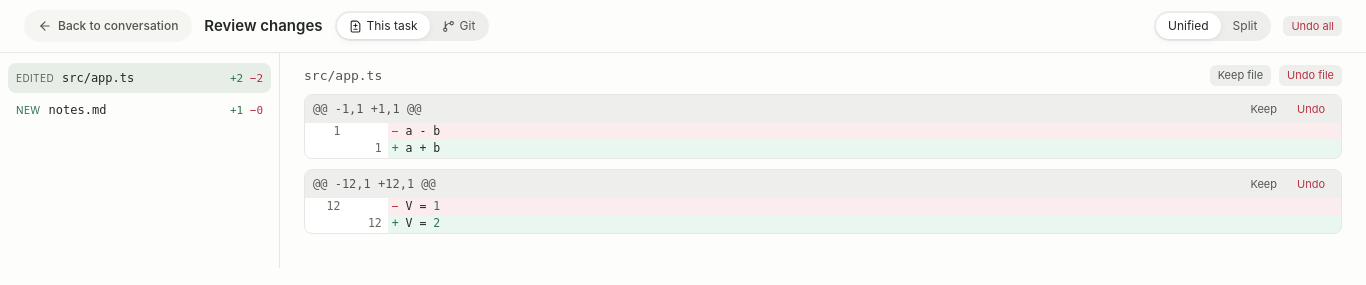
ReviewView › keeps a hunk without touching the file and switches layout
Expected: the text "a + b" is shown, [406, 141, 440, 155]
Click the button with aria-label "Keep change @@ -1,1 +1,1 @@" at (1264, 109), box [1242, 98, 1285, 119]
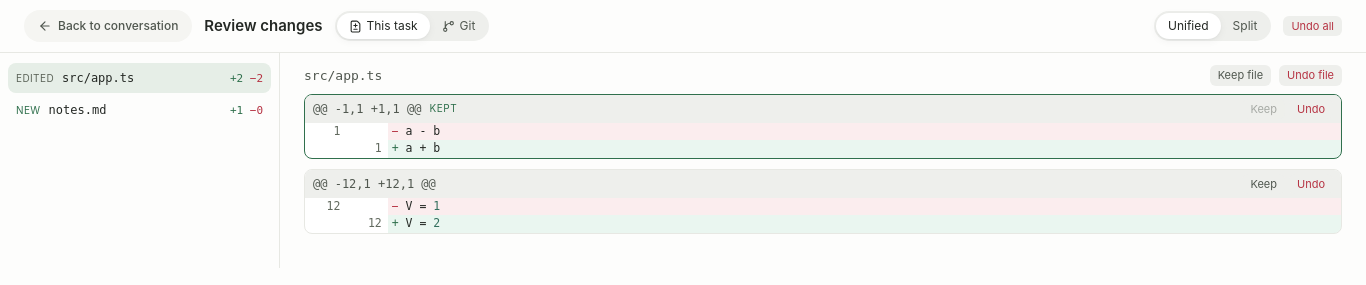
Expected: the text "Kept" is shown, [429, 101, 457, 116]
Click the button "Split" at (1245, 26), box [1221, 13, 1269, 39]
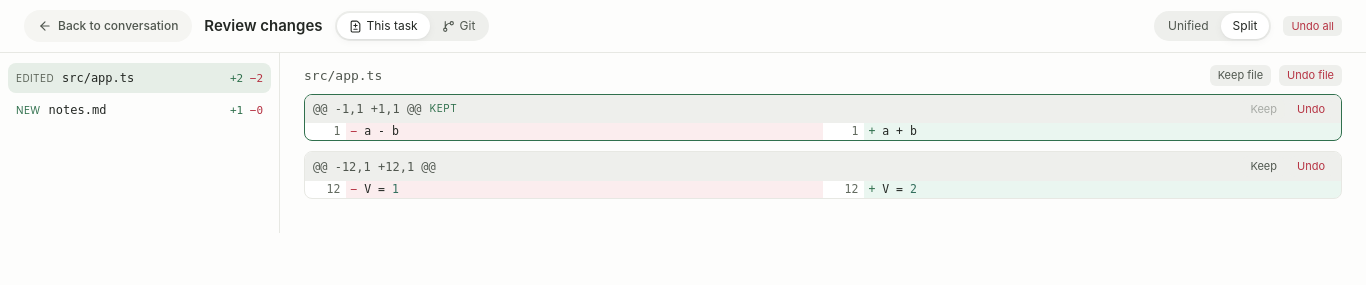
Expected: the table with class "diff-split" showing "1 − a - b 1 + a + b" is shown, [305, 123, 1341, 140]
